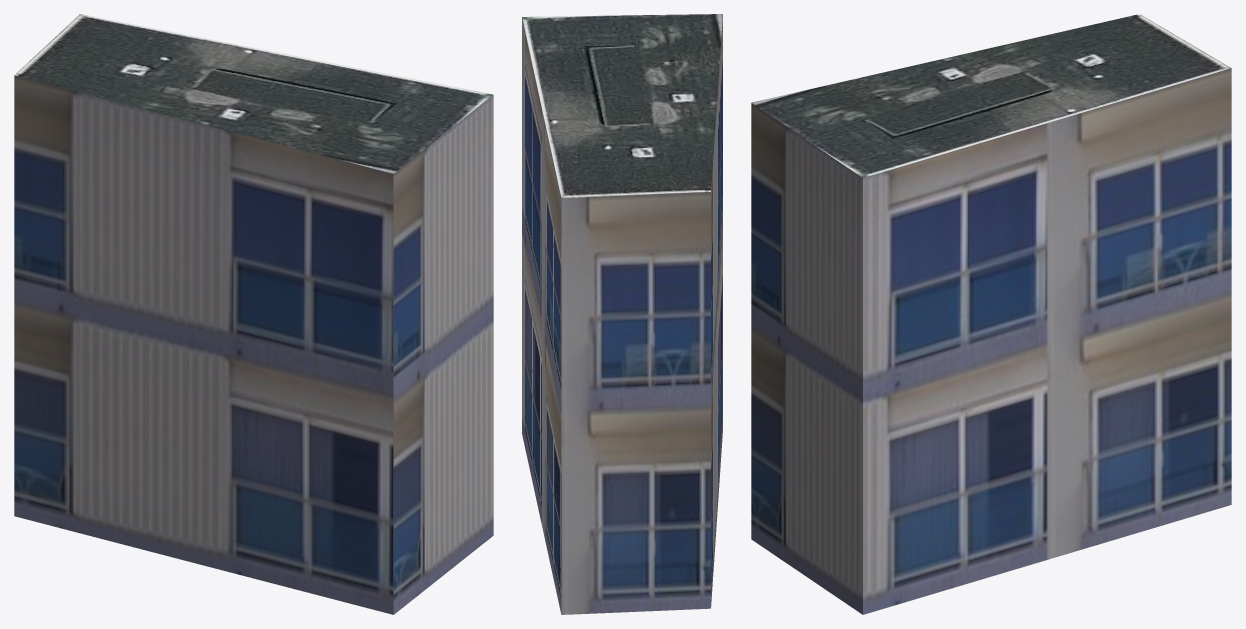
Rendered from RelTex__17.fbx.
3 views of the same model, side by side, from view 1: azimuth 30°, elevation 25°; view 2: azimuth 150°, elevation 25°; view 3: azimuth 270°, elevation 25° (orthographic). The views are drawn at different scales.
Parts seen in each view (by area): view 1: CityEngineMaterial_17_m, CityEngineMaterial_26_m; view 2: CityEngineMaterial_17_m, CityEngineMaterial_26_m; view 3: CityEngineMaterial_17_m, CityEngineMaterial_26_m.
Part boxes in pixels (bbox=[...]): CityEngineMaterial_17_m: bbox=[14, 75, 493, 614]; CityEngineMaterial_26_m: bbox=[14, 14, 492, 173]; CityEngineMaterial_17_m: bbox=[522, 16, 722, 614]; CityEngineMaterial_26_m: bbox=[522, 14, 722, 198]; CityEngineMaterial_17_m: bbox=[751, 68, 1231, 614]; CityEngineMaterial_26_m: bbox=[752, 14, 1230, 177].
Size of the model in its own units: 4.84 by 6 by 5.98.
Materials: 2 (2 with a texture image).
